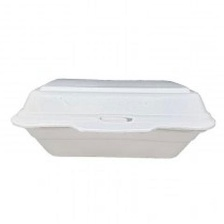foam_box: (7, 66, 220, 165)
